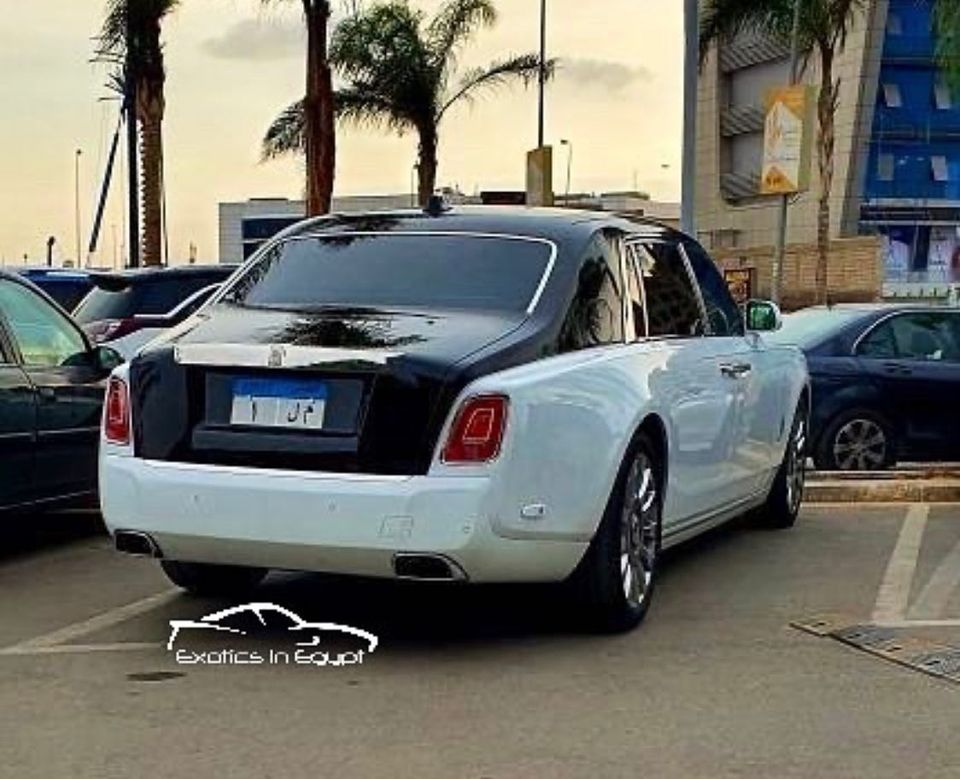carpl: (228, 380, 330, 424)
